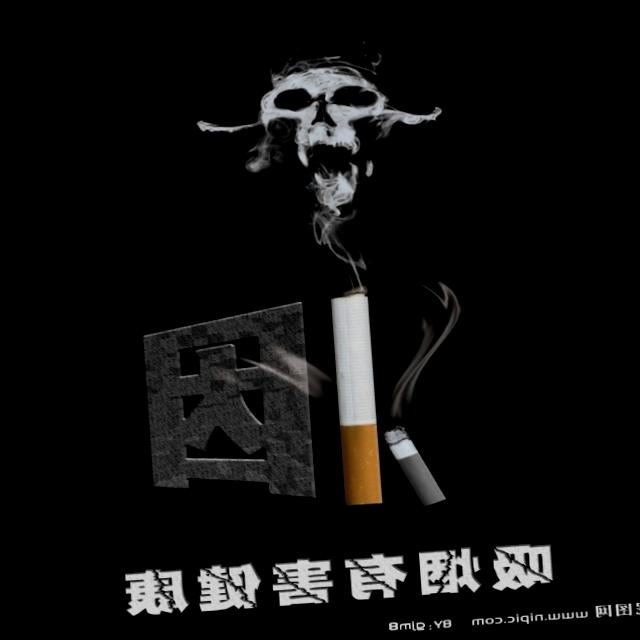smoke: (318, 288, 390, 510)
